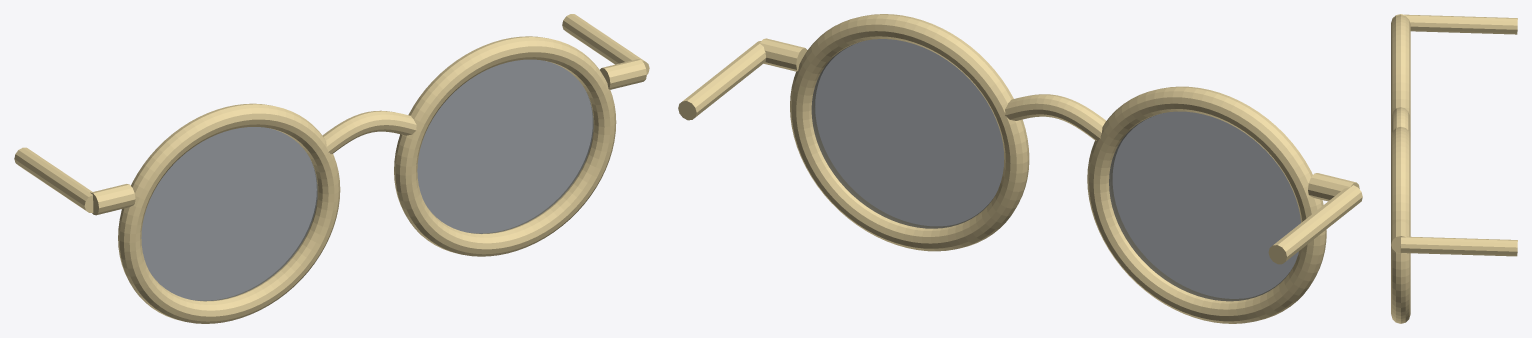
The model's file is round_gold_sun.glb.
The picture shows the model from 3 angles, left to right: view 1: azimuth 30°, elevation 25°; view 2: azimuth 150°, elevation 25°; view 3: azimuth 270°, elevation 25°; orthographic projection. The views are drawn at different scales.
Parts seen in each view (by area): view 1: lenses, frame; view 2: lenses, frame; view 3: frame.
Part boxes in pixels (x1,y1,x2,y2): lenses: [141, 59, 593, 301]; frame: [14, 14, 649, 323]; lenses: [811, 39, 1300, 301]; frame: [678, 14, 1362, 323]; frame: [1391, 14, 1517, 323].
Size of the model in its own units: 0.1392 by 0.05 by 0.0326.
